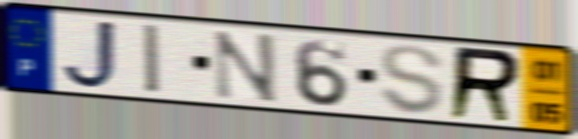6: (292, 36, 350, 109)
I: (140, 21, 164, 97)
J: (59, 17, 120, 90)
N: (211, 28, 281, 105)
R: (445, 43, 524, 126)
S: (377, 42, 446, 117)
